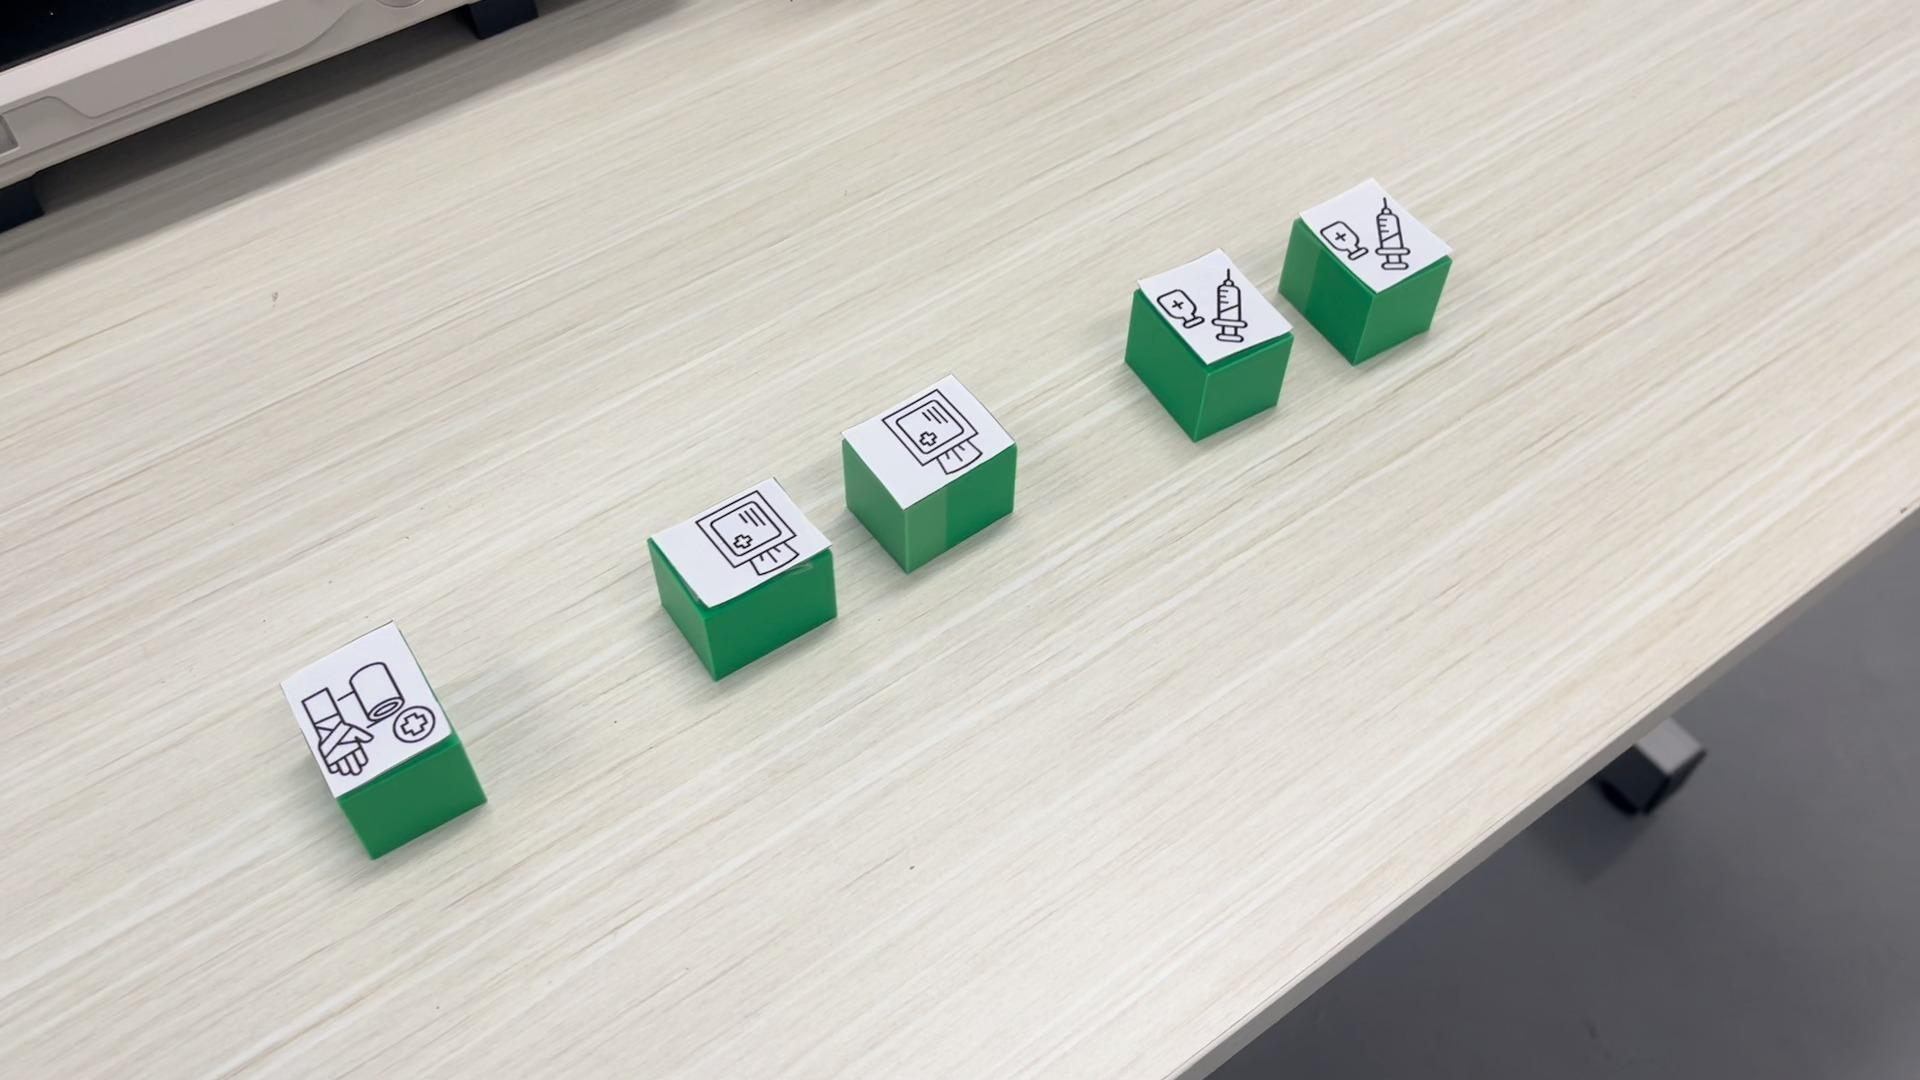Bandages: (278, 621, 487, 858)
Gauze: (647, 476, 839, 680), (837, 372, 1018, 572)
antiseptic cream: (1280, 177, 1456, 367), (1122, 248, 1292, 440)
